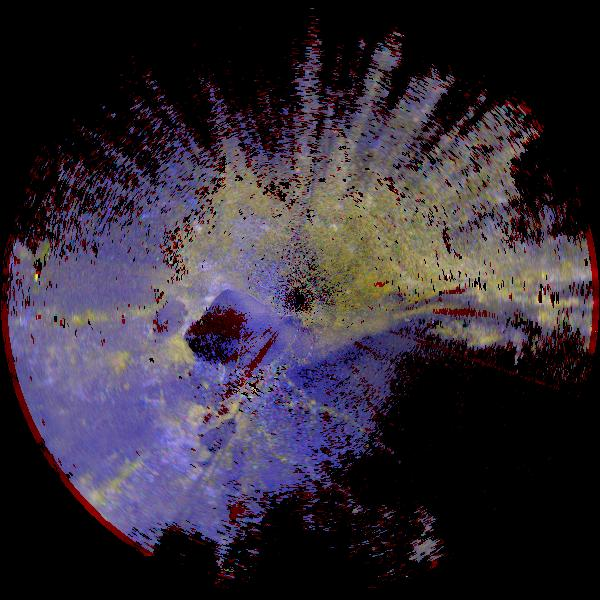roost: (72, 343, 138, 409)
